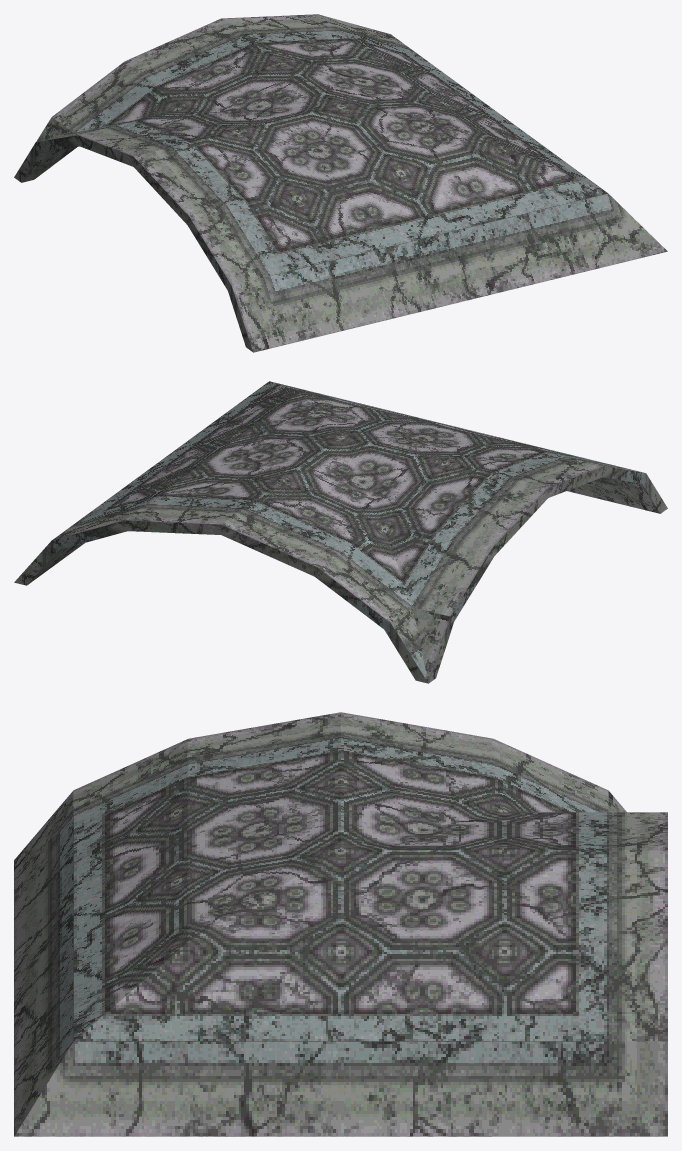
File: roof_set3_04.gltf
3 renders of one model, top to bottom at view 1: azimuth 30°, elevation 25°; view 2: azimuth 150°, elevation 25°; view 3: azimuth 270°, elevation 25°, orthographic. The views are drawn at different scales.
Parts seen in each view (by area): view 1: roof_set3_04; view 2: roof_set3_04; view 3: roof_set3_04.
Boxes of the visible parts, <box> form: roof_set3_04: <box>14,14,667,352</box>; roof_set3_04: <box>14,381,667,683</box>; roof_set3_04: <box>14,712,667,1136</box>.
Bounding box in the file's own units: 4 × 1 × 4.
1 material, 1 textured.
